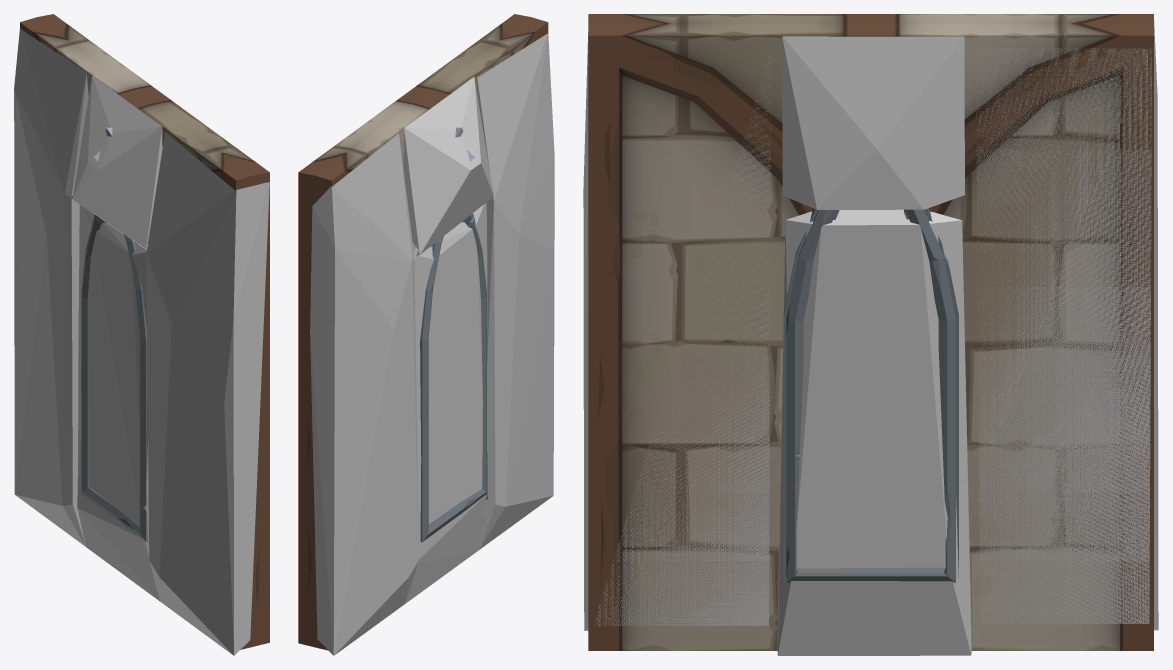
The model's file is SM_Bld_Window_03.fbx.
3 views of the same model, side by side, from view 1: azimuth 30°, elevation 25°; view 2: azimuth 150°, elevation 25°; view 3: azimuth 270°, elevation 25° (orthographic). The views are drawn at different scales.
Visible parts, largest first — view 1: SM_Bld_Window_03_ConvexHulls, SM_Bld_Window_03; view 2: SM_Bld_Window_03_ConvexHulls, SM_Bld_Window_03; view 3: SM_Bld_Window_03, SM_Bld_Window_03_ConvexHulls.
Part boxes in pixels (x1,y1,x2,y2): SM_Bld_Window_03_ConvexHulls: [14, 29, 269, 655]; SM_Bld_Window_03: [20, 14, 269, 649]; SM_Bld_Window_03_ConvexHulls: [310, 33, 554, 655]; SM_Bld_Window_03: [298, 14, 548, 650]; SM_Bld_Window_03: [588, 14, 1153, 650]; SM_Bld_Window_03_ConvexHulls: [583, 21, 1158, 655].
Bounding box in the file's own units: 56.18 × 254 × 302.
Materials: 3 (2 with a texture image).
